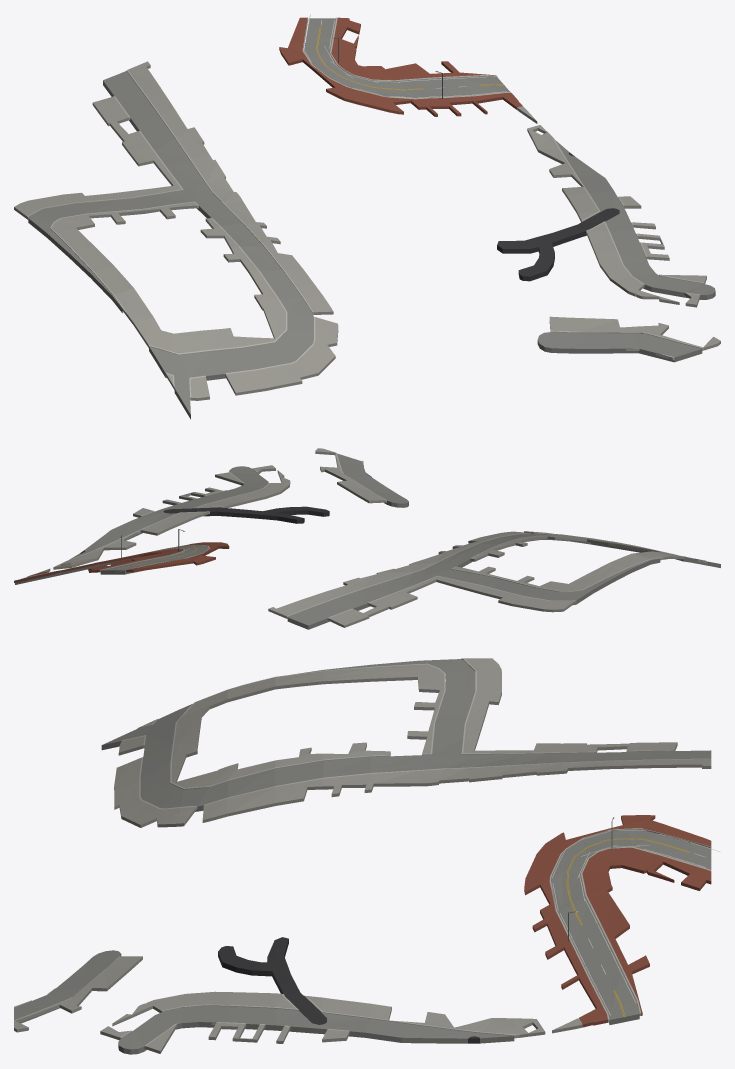
3 views of the same model, one above another, from view 1: azimuth 30°, elevation 25°; view 2: azimuth 150°, elevation 25°; view 3: azimuth 270°, elevation 25° (orthographic). The views are drawn at different scales.
Size of the model in its own units: 147 by 36.29 by 148.
